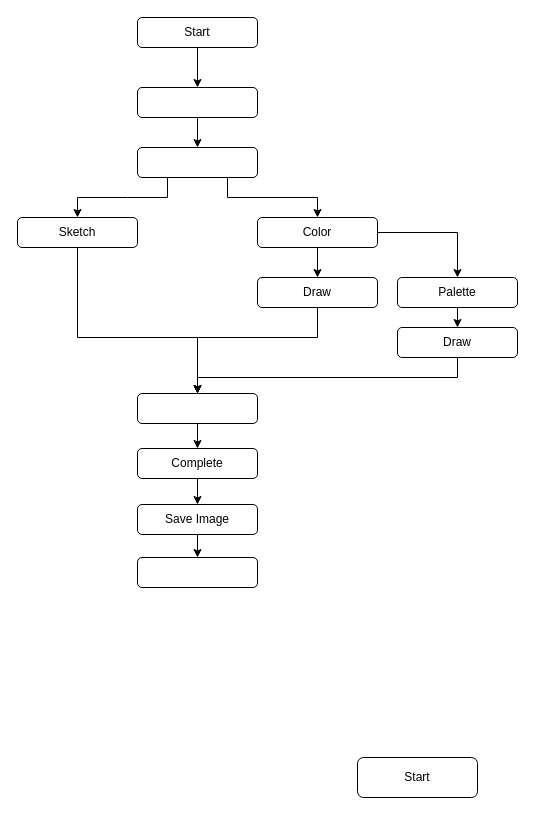
The diagram is 535 pixels wide and 815 high, and some of its shapes have lost their labels. Each missing label, with the centre of its shape:
"Arrange" belongs at [197,408].
"Create / Draw mask" belongs at [197,162].
"End" belongs at [197,572].
"Select Image" belongs at [197,102].
